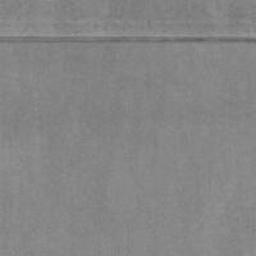Welding line: (0, 35, 256, 46)
